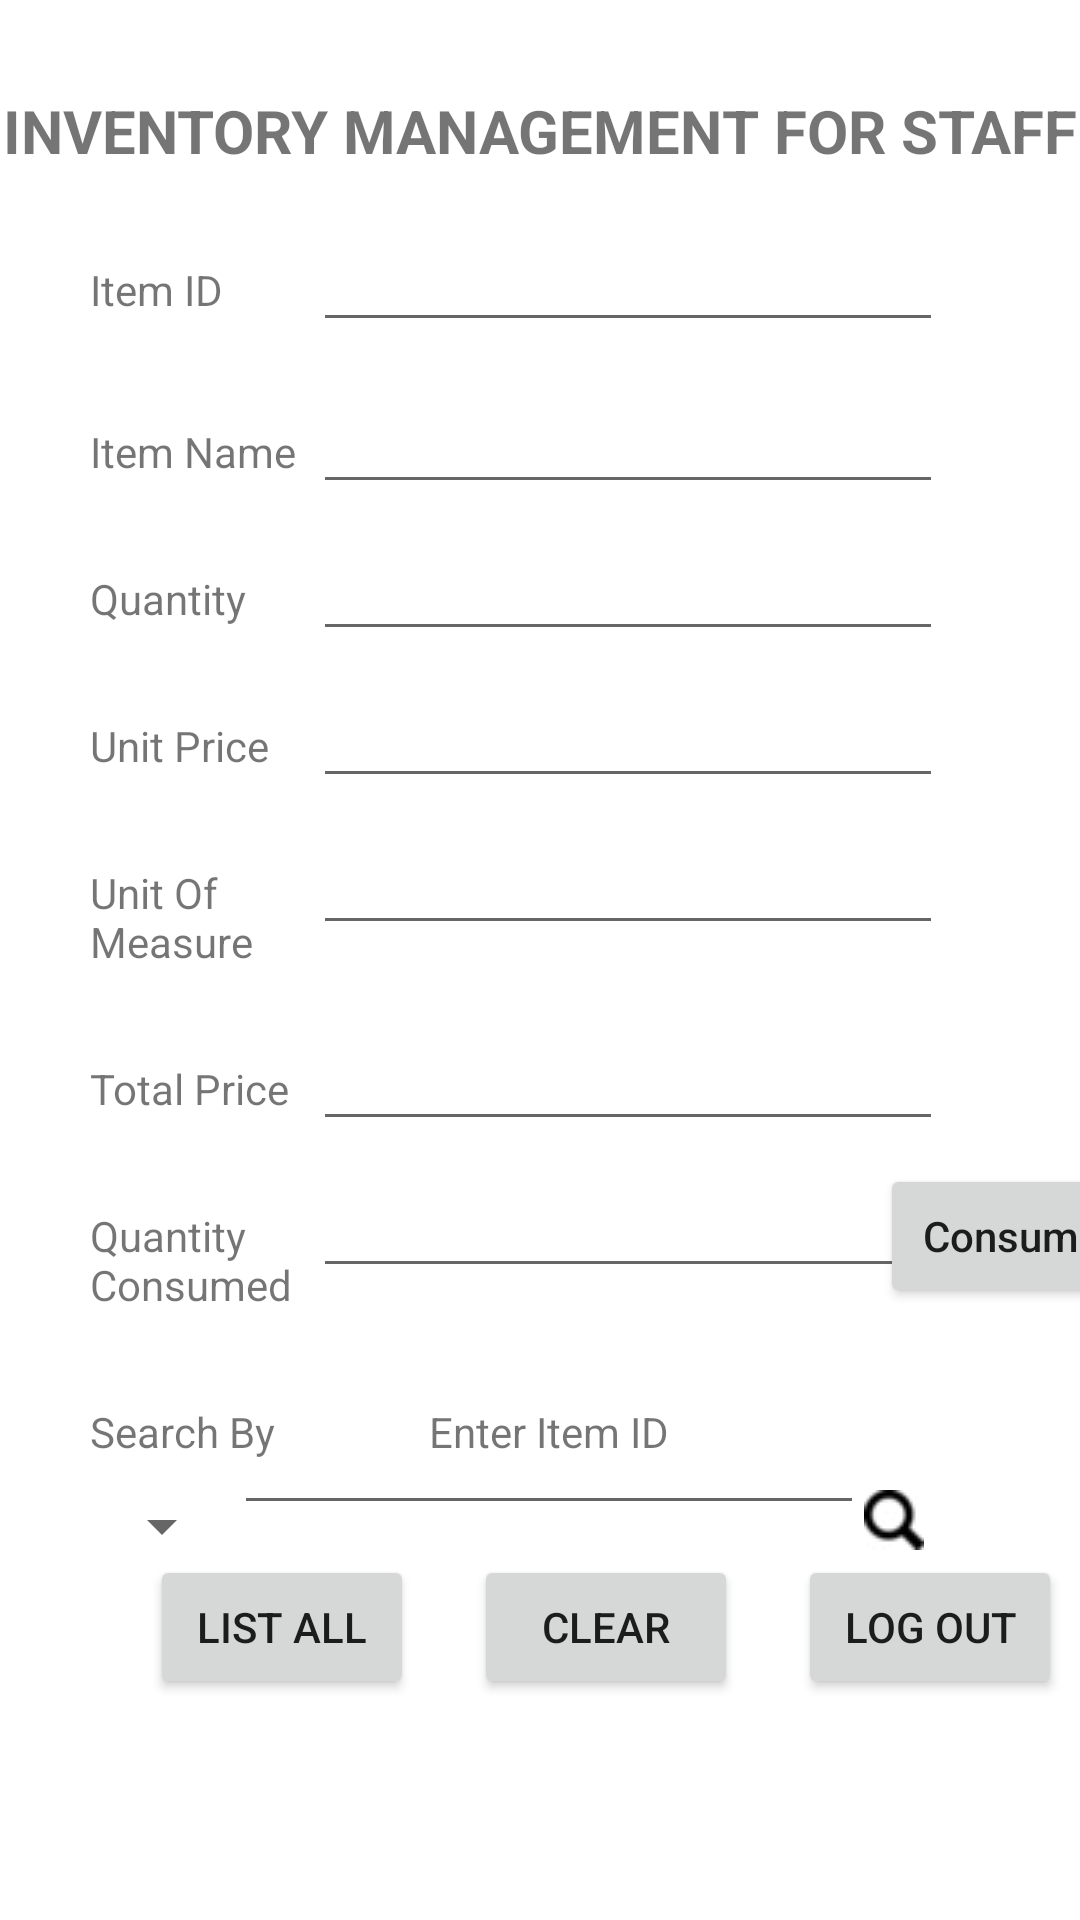

Named icons in this screenshot (1080*1920) and their centers, [x,y]:
magnifyingglass: [894,1520]
